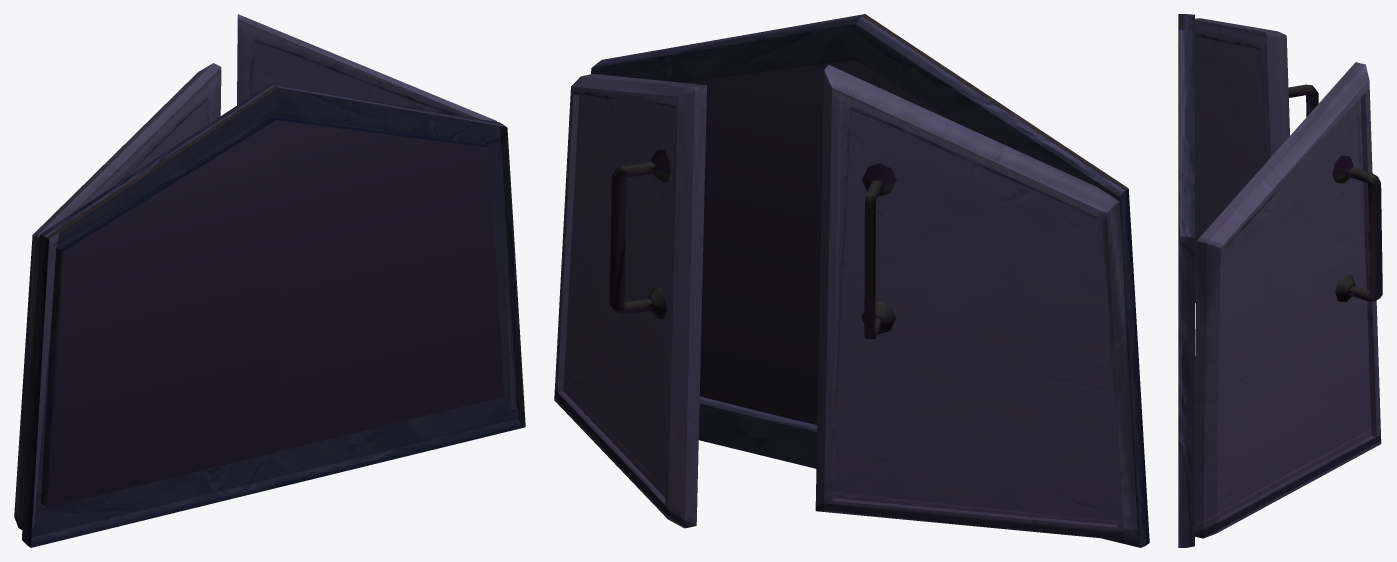
File: MOD_DoubleCabinOpen_Block.fbx
The picture shows the model from 3 angles, left to right: view 1: azimuth 30°, elevation 25°; view 2: azimuth 150°, elevation 25°; view 3: azimuth 270°, elevation 25°; orthographic projection. The views are drawn at different scales.
Visible parts, largest first — view 1: MOD_DoubleCabinOpen_Block; view 2: MOD_DoubleCabinOpen_Block; view 3: MOD_DoubleCabinOpen_Block.
Part boxes in pixels (x1,y1,x2,y2): MOD_DoubleCabinOpen_Block: [14, 14, 525, 547]; MOD_DoubleCabinOpen_Block: [554, 14, 1149, 547]; MOD_DoubleCabinOpen_Block: [1178, 14, 1382, 547].
Bounding box in the file's own units: 73.75 × 56.42 × 26.3.
Materials: 2 (2 with a texture image).
